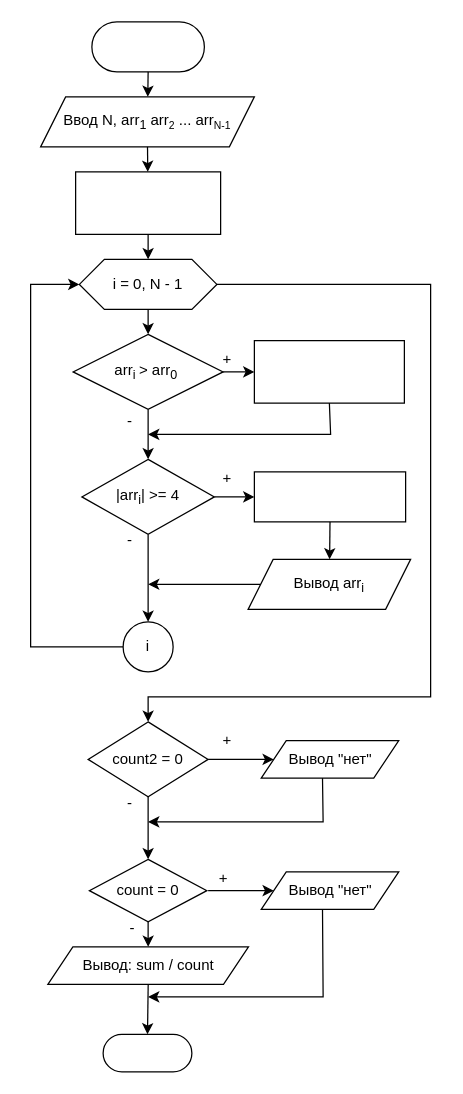
Image size: 463x1094. Some labels were removed from this diagram. Each missing label, with the box of its shape:
count2 = count2 + 1: (253, 471, 406, 522)
sum = 0 count, count2 = 0: (74, 171, 221, 234)
sum = sum + arr i count = count + 1: (253, 339, 404, 403)
Конец: (102, 1033, 192, 1072)
Начало: (91, 21, 204, 72)
